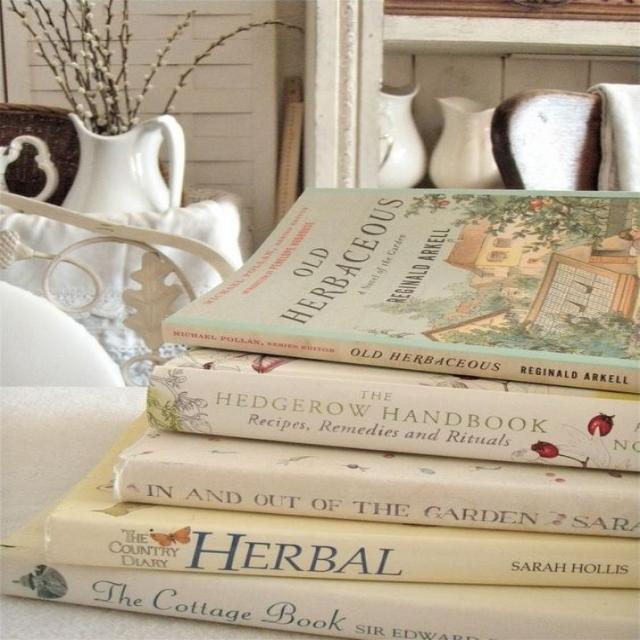book: (164, 190, 639, 393), (43, 451, 639, 588), (148, 350, 639, 471), (114, 428, 639, 538), (2, 559, 639, 639)
